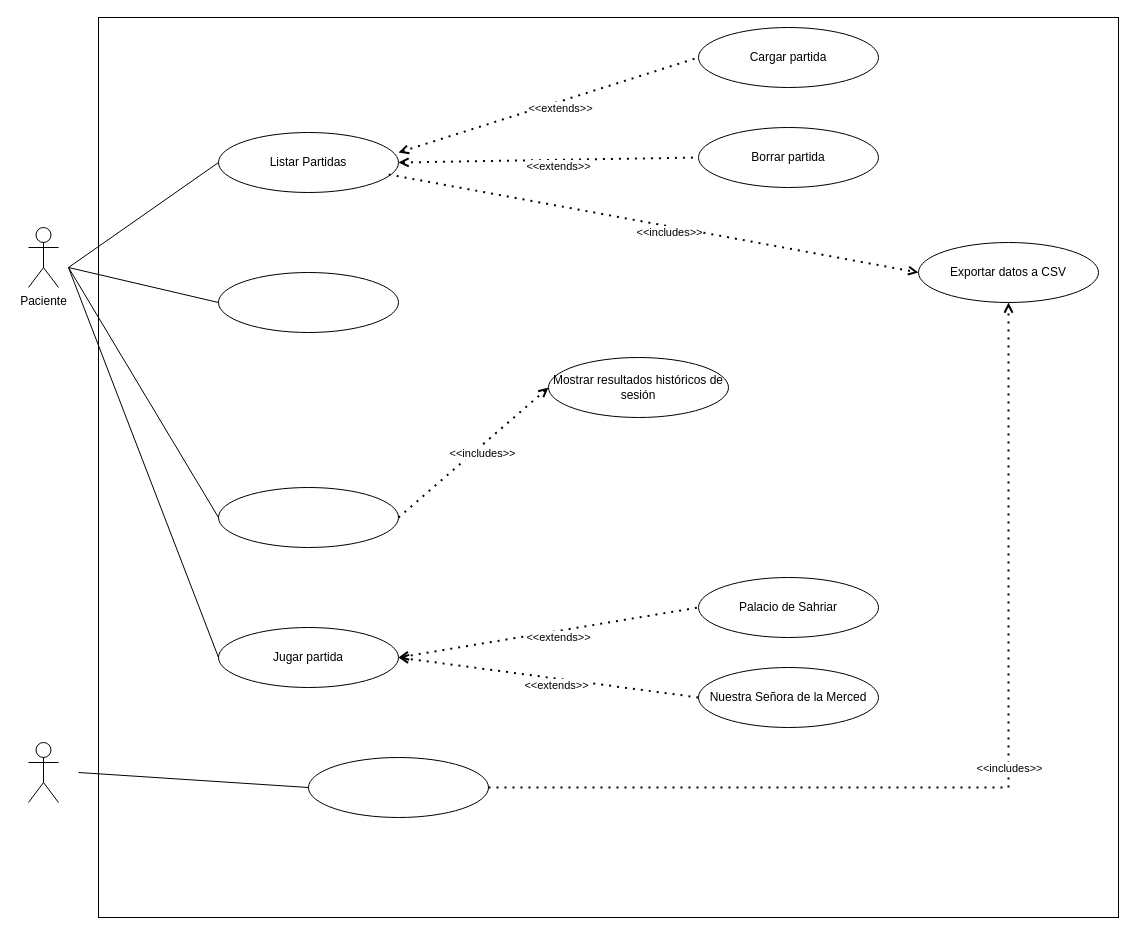
This 1136x935 diagram has some shape labels left out. The shapes that lost their labels are listed below. From the top down, each one's centre as x and y in pixels, then its label:
point 308,302: Mostrar créditos
point 308,517: Elegir nivel
point 43,772: Terapeuta
point 398,787: Consultar datos del paciente
